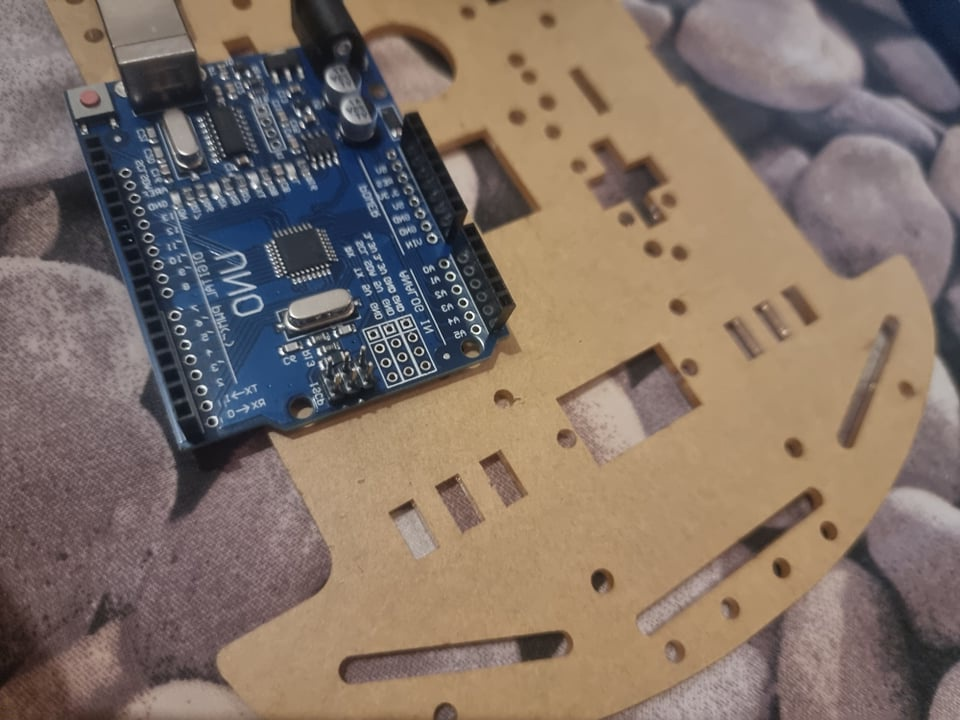UNO R3: (67, 1, 516, 455)
